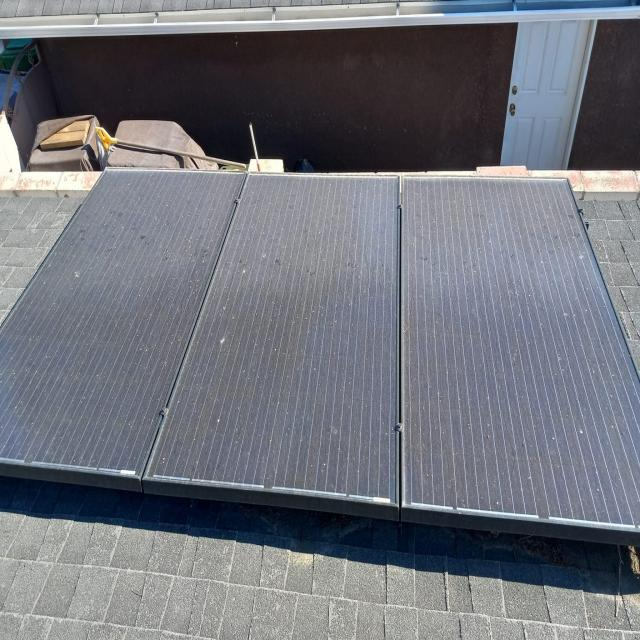soiled: (4, 175, 640, 548)
